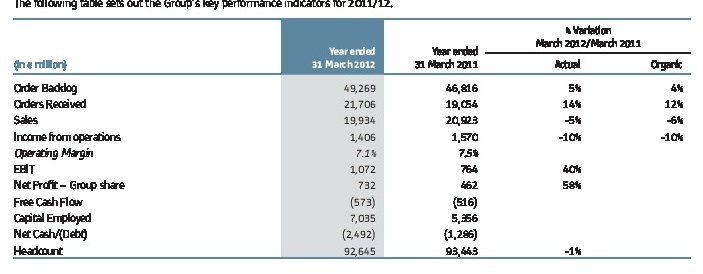table: (0, 0, 703, 274)
